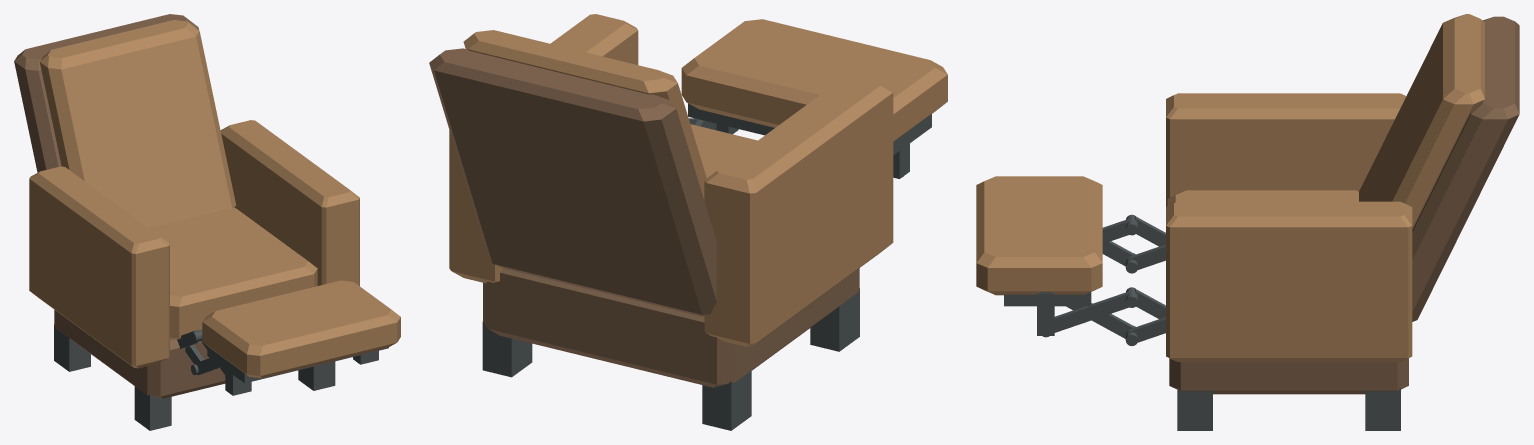
The picture shows the model from 3 angles, left to right: view 1: azimuth 30°, elevation 25°; view 2: azimuth 150°, elevation 25°; view 3: azimuth 270°, elevation 25°; orthographic projection. The views are drawn at different scales.
Visible parts, largest first — view 1: CompleteInclinedBackPad, WholeEnclosingArm_-1, WholeEnclosingArm_1, WholeExtendedFootPad, CompleteSeatPad, WholeLowBase, CompleteInclinedBackSupport, WholeGroundFoot_(-0.34, -0.27), WholeGroundFoot_(-0.34, 0.31), WholeGroundFoot_(0.34, -0.27), FootPadUndersideCarrier, FootPadLinkMount_-1; view 2: CompleteInclinedBackSupport, WholeEnclosingArm_-1, WholeLowBase, WholeExtendedFootPad, CompleteInclinedBackPad, WholeEnclosingArm_1, WholeGroundFoot_(-0.34, 0.31), WholeGroundFoot_(-0.34, -0.27), WholeGroundFoot_(0.34, 0.31), CompleteSeatPad, FootPadUndersideCarrier; view 3: WholeEnclosingArm_1, WholeEnclosingArm_-1, WholeExtendedFootPad, CompleteInclinedBackPad, CompleteInclinedBackSupport, WholeLowBase, CompleteSeatPad, WholeGroundFoot_(0.34, -0.27), WholeGroundFoot_(0.34, 0.31), FullFixedLink_(1, 3), FootPadUndersideCarrier, FootPadLinkMount_1 (+4 smaller).
Part boxes in pixels (x1,y1,x2,y2): CompleteInclinedBackPad: (40, 20, 235, 227); WholeEnclosingArm_-1: (29, 166, 169, 368); WholeEnclosingArm_1: (220, 120, 359, 285); WholeExtendedFootPad: (202, 280, 400, 378); CompleteSeatPad: (149, 208, 317, 339); WholeLowBase: (54, 310, 225, 398); CompleteInclinedBackSupport: (14, 14, 198, 172); WholeGroundFoot_(-0.34, -0.27): (134, 386, 171, 430); WholeGroundFoot_(-0.34, 0.31): (54, 324, 90, 371); WholeGroundFoot_(0.34, -0.27): (298, 361, 335, 390); FootPadUndersideCarrier: (207, 346, 388, 383); FootPadLinkMount_-1: (225, 369, 251, 395); CompleteInclinedBackSupport: (429, 48, 716, 316); WholeEnclosingArm_-1: (704, 76, 893, 346); WholeLowBase: (483, 268, 859, 387); WholeExtendedFootPad: (681, 19, 947, 141); CompleteInclinedBackPad: (463, 30, 706, 199); WholeEnclosingArm_1: (449, 14, 638, 283); WholeGroundFoot_(-0.34, 0.31): (702, 371, 751, 430); WholeGroundFoot_(-0.34, -0.27): (810, 288, 859, 351); WholeGroundFoot_(0.34, 0.31): (482, 321, 532, 377); CompleteSeatPad: (690, 124, 757, 177); FootPadUndersideCarrier: (688, 103, 931, 155); WholeEnclosingArm_1: (1166, 201, 1412, 361); WholeEnclosingArm_-1: (1166, 93, 1406, 206); WholeExtendedFootPad: (976, 176, 1102, 295); CompleteInclinedBackPad: (1359, 14, 1484, 229); CompleteInclinedBackSupport: (1412, 16, 1519, 321); WholeLowBase: (1169, 358, 1408, 394); CompleteSeatPad: (1167, 190, 1358, 205); WholeGroundFoot_(0.34, -0.27): (1177, 388, 1212, 430); WholeGroundFoot_(0.34, 0.31): (1365, 388, 1400, 430); FullFixedLink_(1, 3): (1054, 291, 1129, 332); FootPadUndersideCarrier: (1004, 292, 1091, 306); FootPadLinkMount_1: (1037, 292, 1054, 335).
Bounding box in the file's own units: 0.95 × 1.11 × 1.68.
